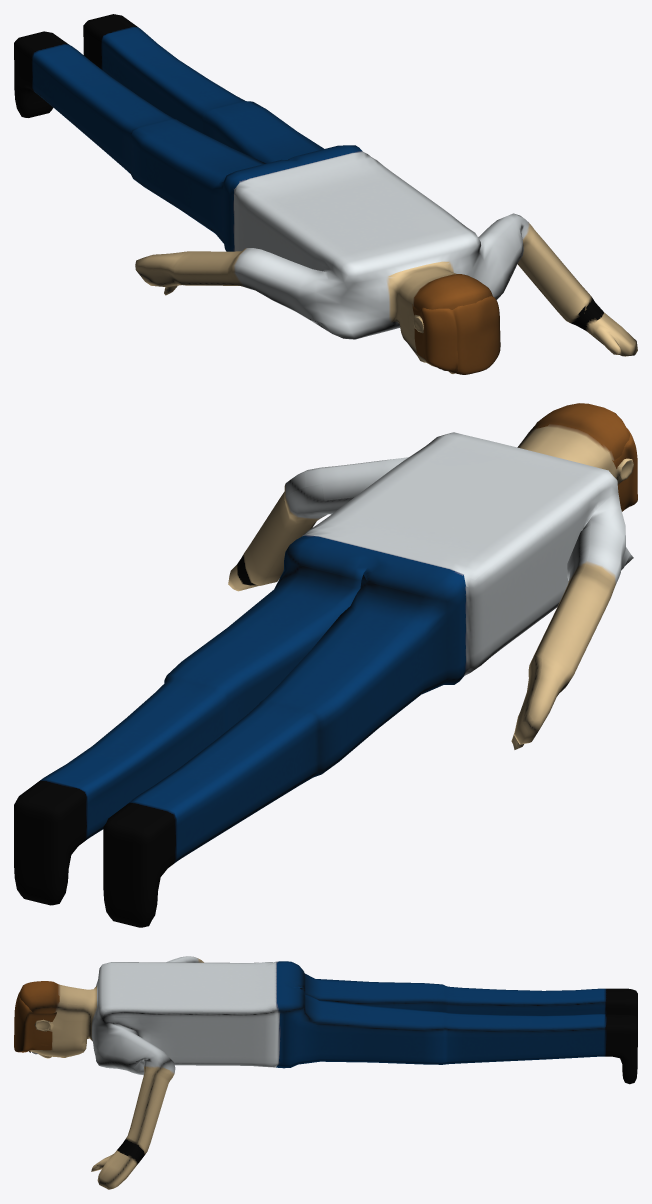
Rendered from father.obj.
The picture shows the model from 3 angles, top to bottom: view 1: azimuth 30°, elevation 25°; view 2: azimuth 150°, elevation 25°; view 3: azimuth 270°, elevation 25°; orthographic projection. The views are drawn at different scales.
Visible parts, largest first — view 1: father; view 2: father; view 3: father.
Part boxes in pixels (x1,y1,x2,y2): father: (14, 14, 637, 374); father: (14, 403, 637, 927); father: (14, 956, 637, 1189).
Size of the model in its own units: 52.67 by 22.1 by 101.
Materials: 1 (1 with a texture image).
